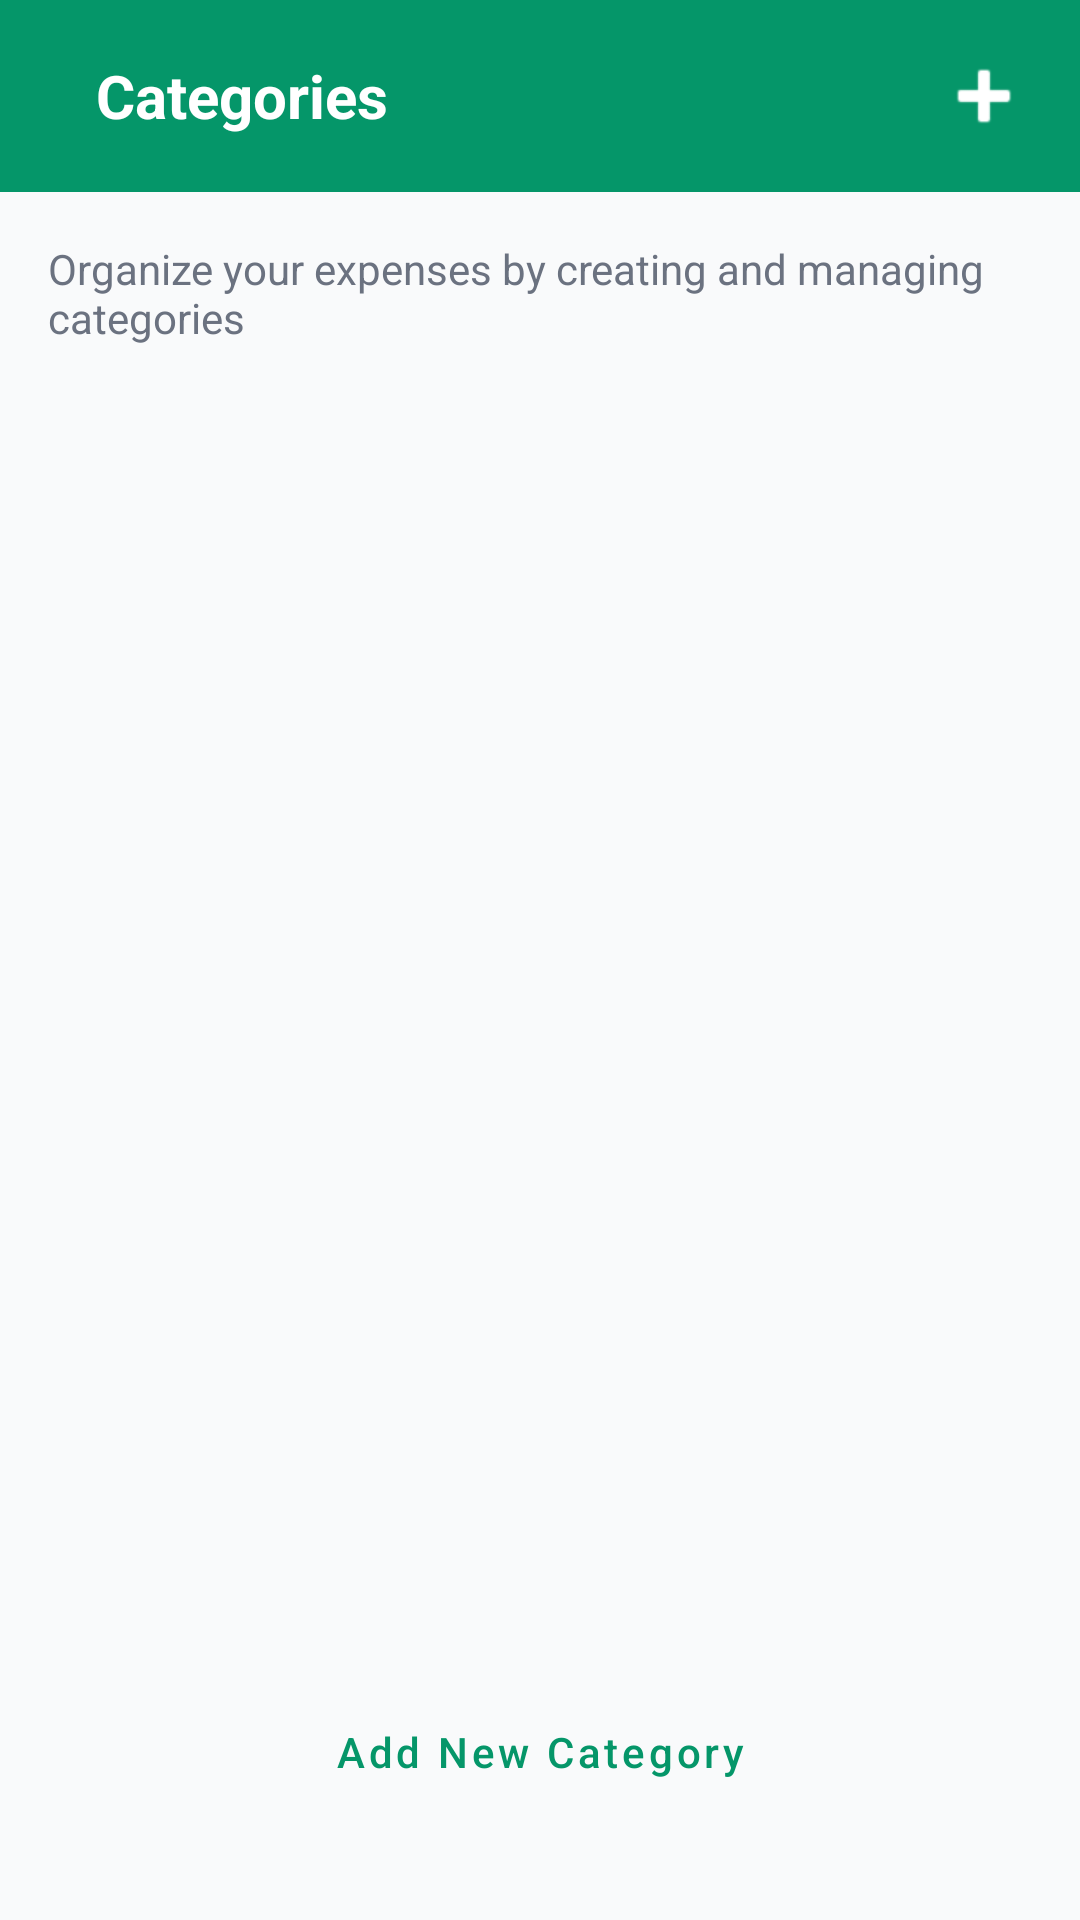

Icons on this 1080 × 1920 Android screen, each with the point to tap as (x=x, y=y):
add: (x=984, y=96)
